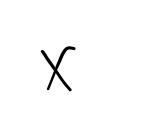mult: (39, 46, 74, 92)
